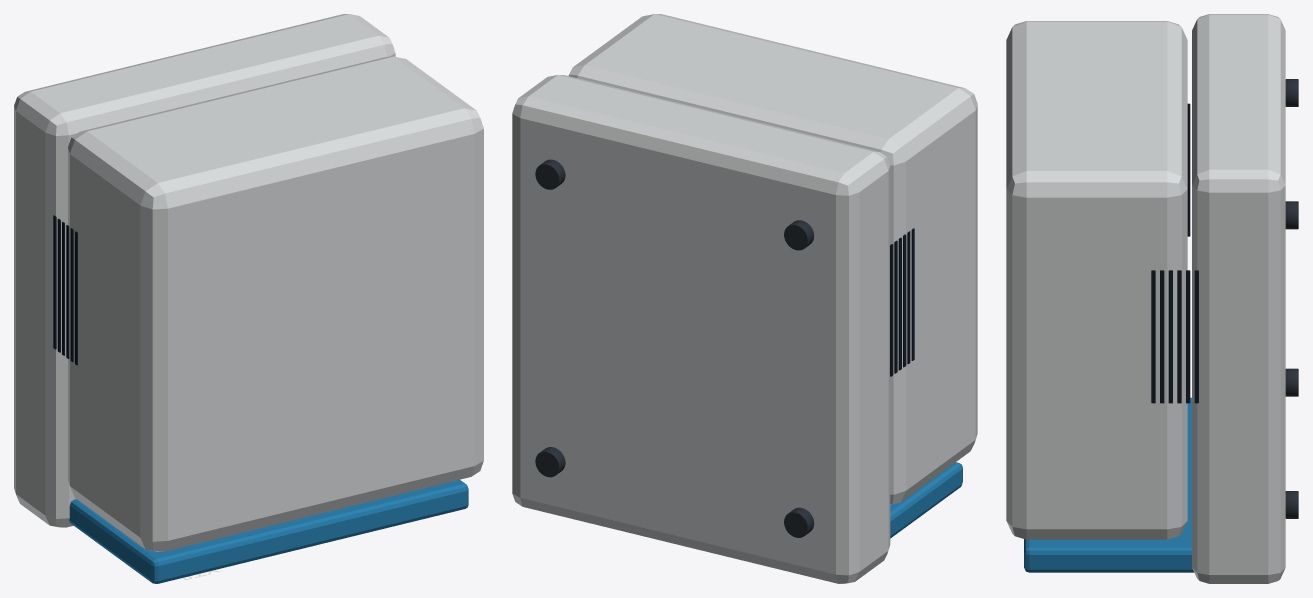
The model's file is btx_gemini_x2.glb.
3 views of the same model, side by side, from view 1: azimuth 30°, elevation 25°; view 2: azimuth 150°, elevation 25°; view 3: azimuth 270°, elevation 25° (orthographic).
Parts seen in each view (by area): view 1: Generator lower chassis, Blue front console, Gemini color touchscreen bezel; view 2: Generator lower chassis, Gemini color touchscreen bezel, Rubber isolator, Blue front console; view 3: Generator lower chassis, Blue front console, Gemini color touchscreen bezel, Rubber isolator.
Part boxes in pixels (x1,y1,x2,y2): Generator lower chassis: (14, 14, 483, 551); Blue front console: (69, 479, 468, 583); Gemini color touchscreen bezel: (53, 215, 77, 365); Generator lower chassis: (512, 14, 977, 583); Gemini color touchscreen bezel: (890, 228, 914, 376); Rubber isolator: (535, 159, 814, 537); Blue front console: (890, 462, 962, 538); Generator lower chassis: (1006, 14, 1285, 583); Blue front console: (1024, 397, 1193, 572); Gemini color touchscreen bezel: (1151, 103, 1198, 403); Rubber isolator: (1285, 79, 1298, 518).
Size of the model in its own units: 0.2794 by 0.3176 by 0.2032.
